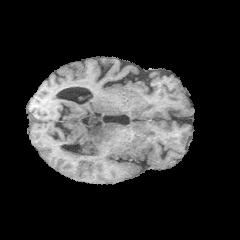glioma: (58, 123, 123, 159)
